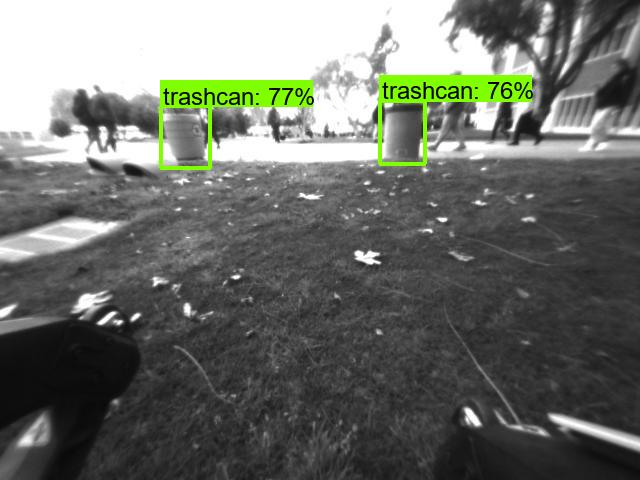trashcan: (162, 111, 211, 161), (381, 106, 419, 164)
